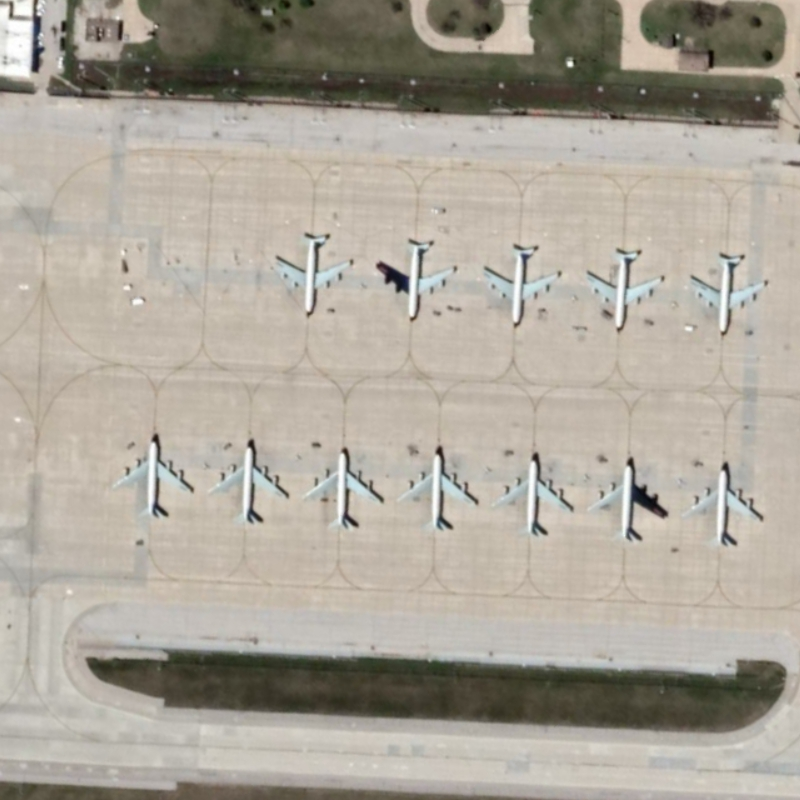A11: (581, 450, 677, 548), (684, 244, 776, 344), (487, 442, 578, 542), (104, 425, 199, 520), (267, 228, 360, 323), (393, 443, 482, 537), (682, 455, 770, 550), (373, 233, 461, 325), (580, 241, 665, 336), (299, 444, 386, 536), (207, 433, 289, 528), (481, 236, 558, 330)
